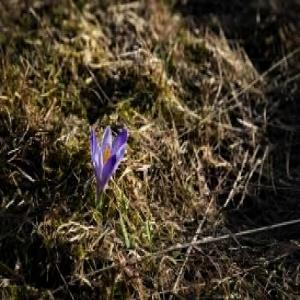Saffron: (90, 128, 129, 194)
